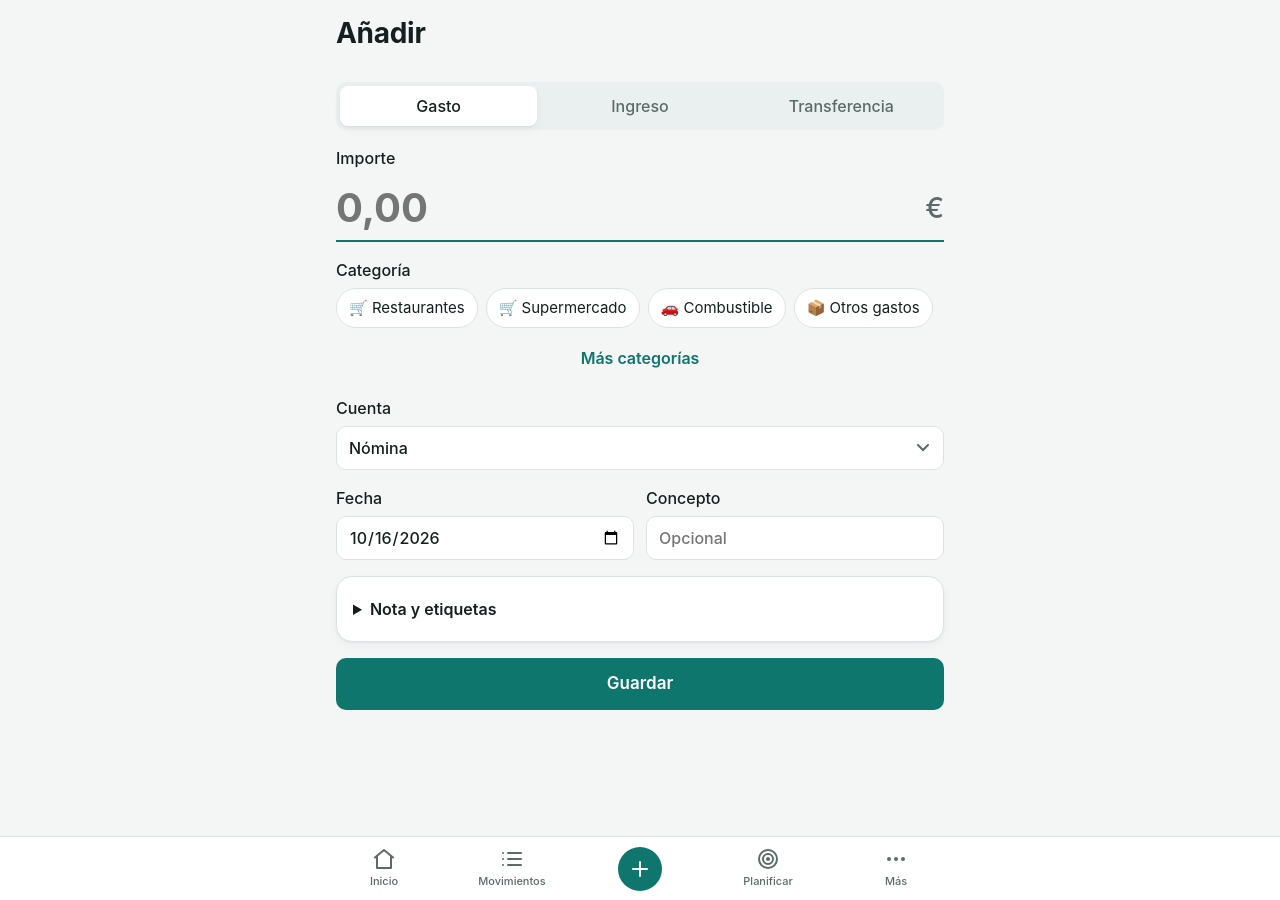
Test case: quick add › moves money between own accounts
The width and height of the screenshot is (1280, 900).
Click the radio button labelled "Transferencia" at point(841, 106), box [743,86,940,126]
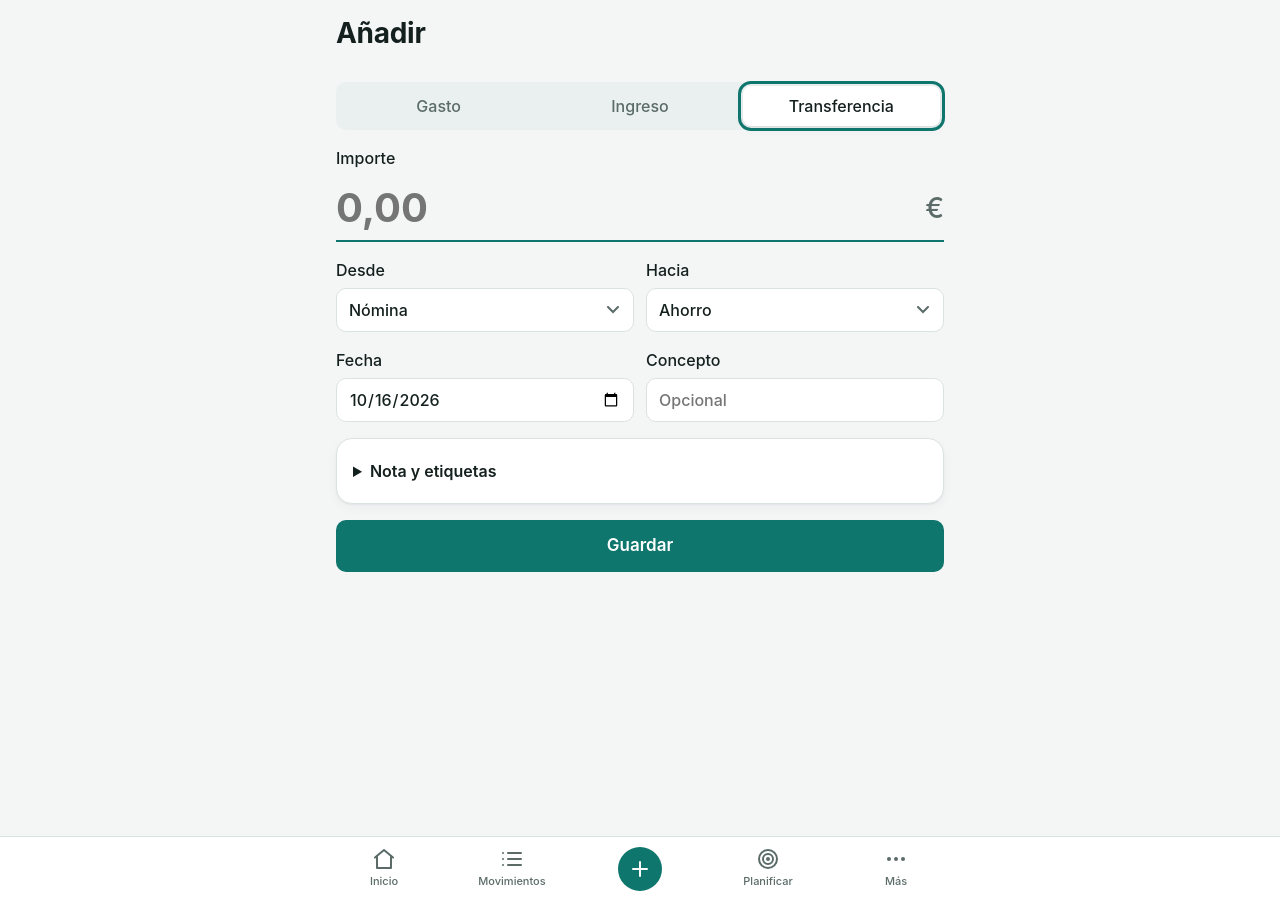
Type "300" into the field labelled "Importe" at point(627, 208), box [336,176,917,240]
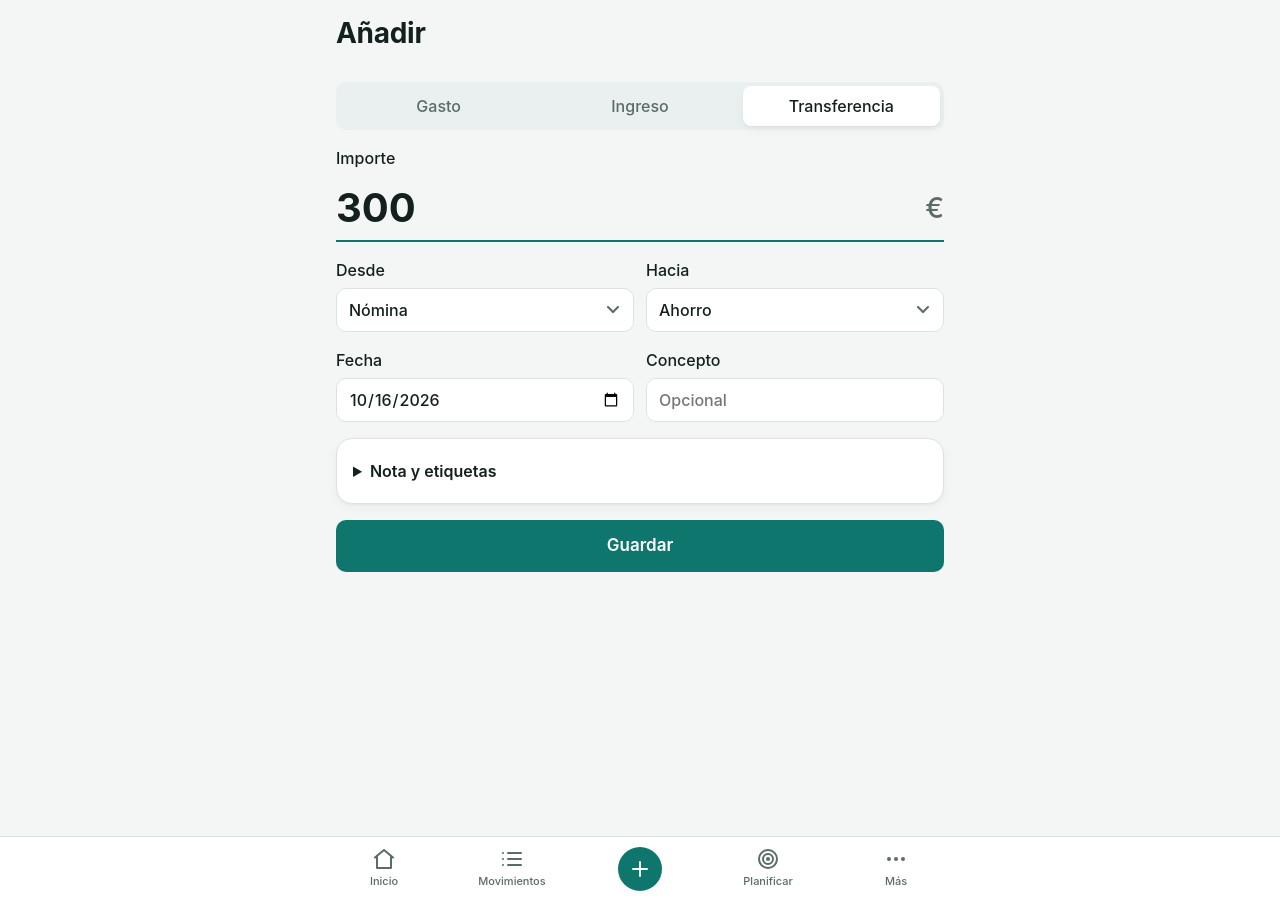
Click the button "Guardar" at point(640, 546), box [336,520,944,572]
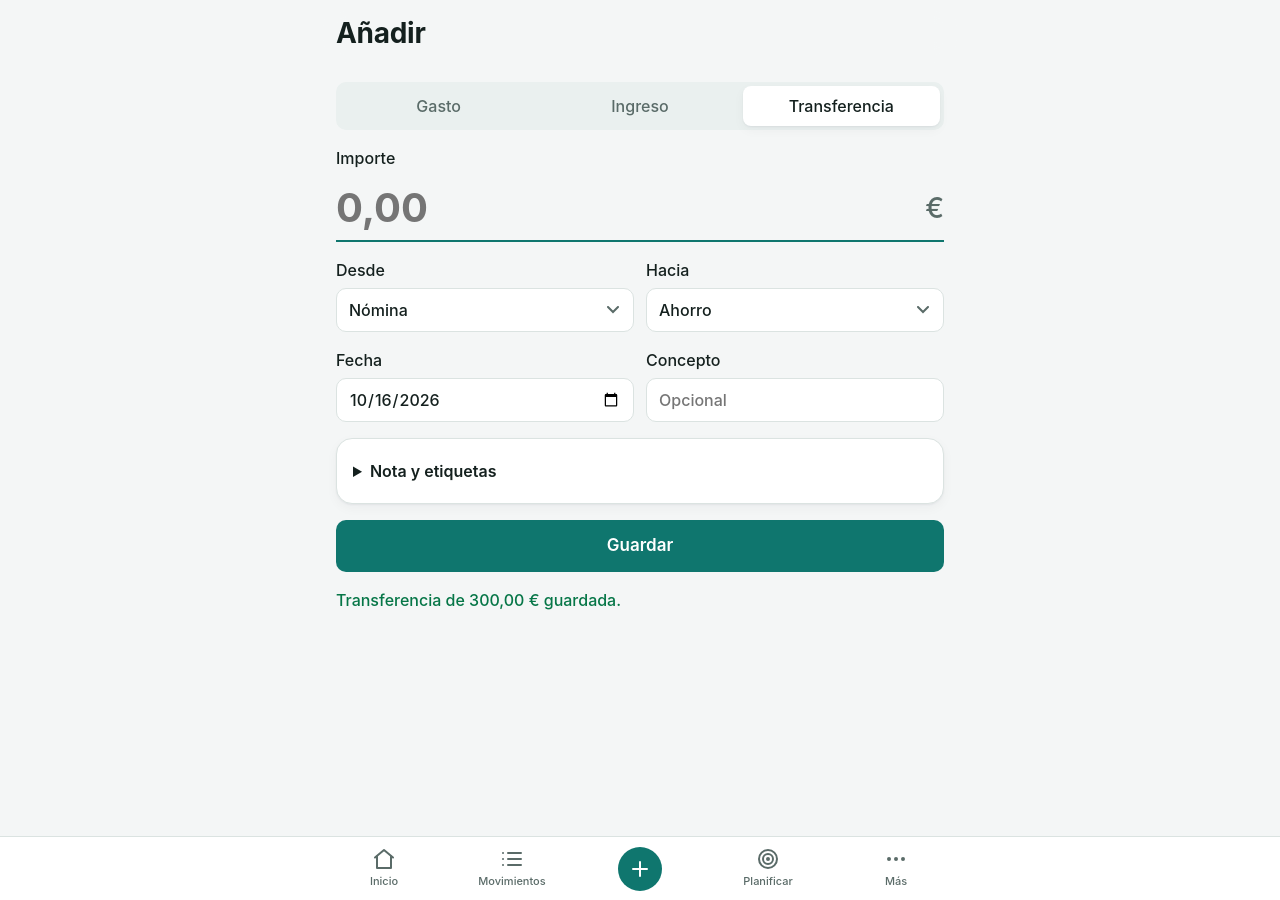
Expected: the text "Transferencia de 300,00 € guardada." is shown, [336,590,621,610]
